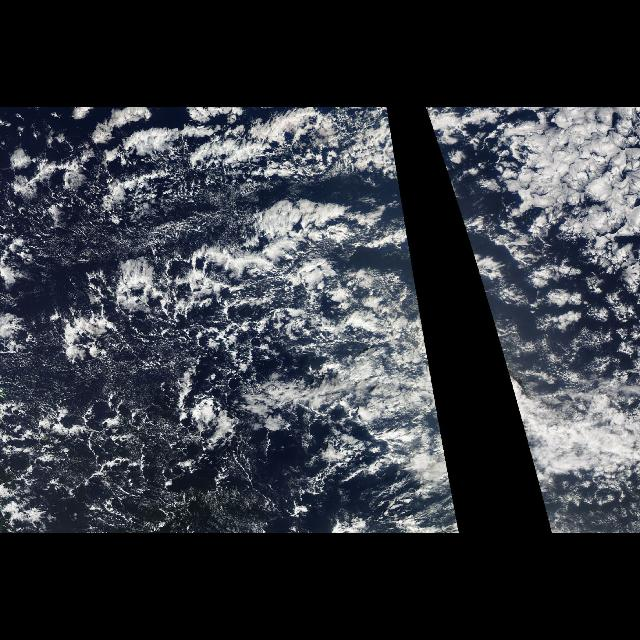Flower: (433, 108, 639, 376)
Gravel: (2, 114, 376, 528)
